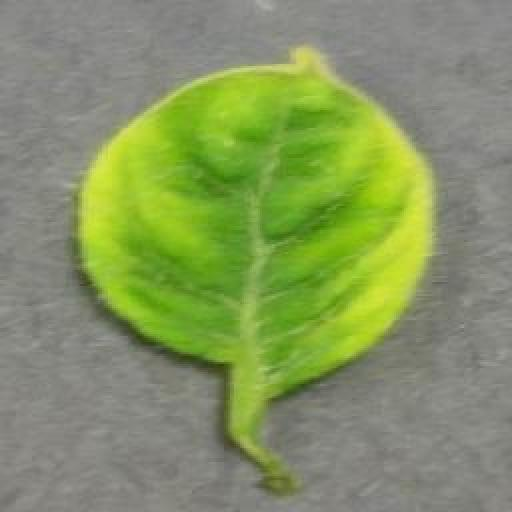Yellow Leaf Curl Virus: (76, 42, 435, 398)
